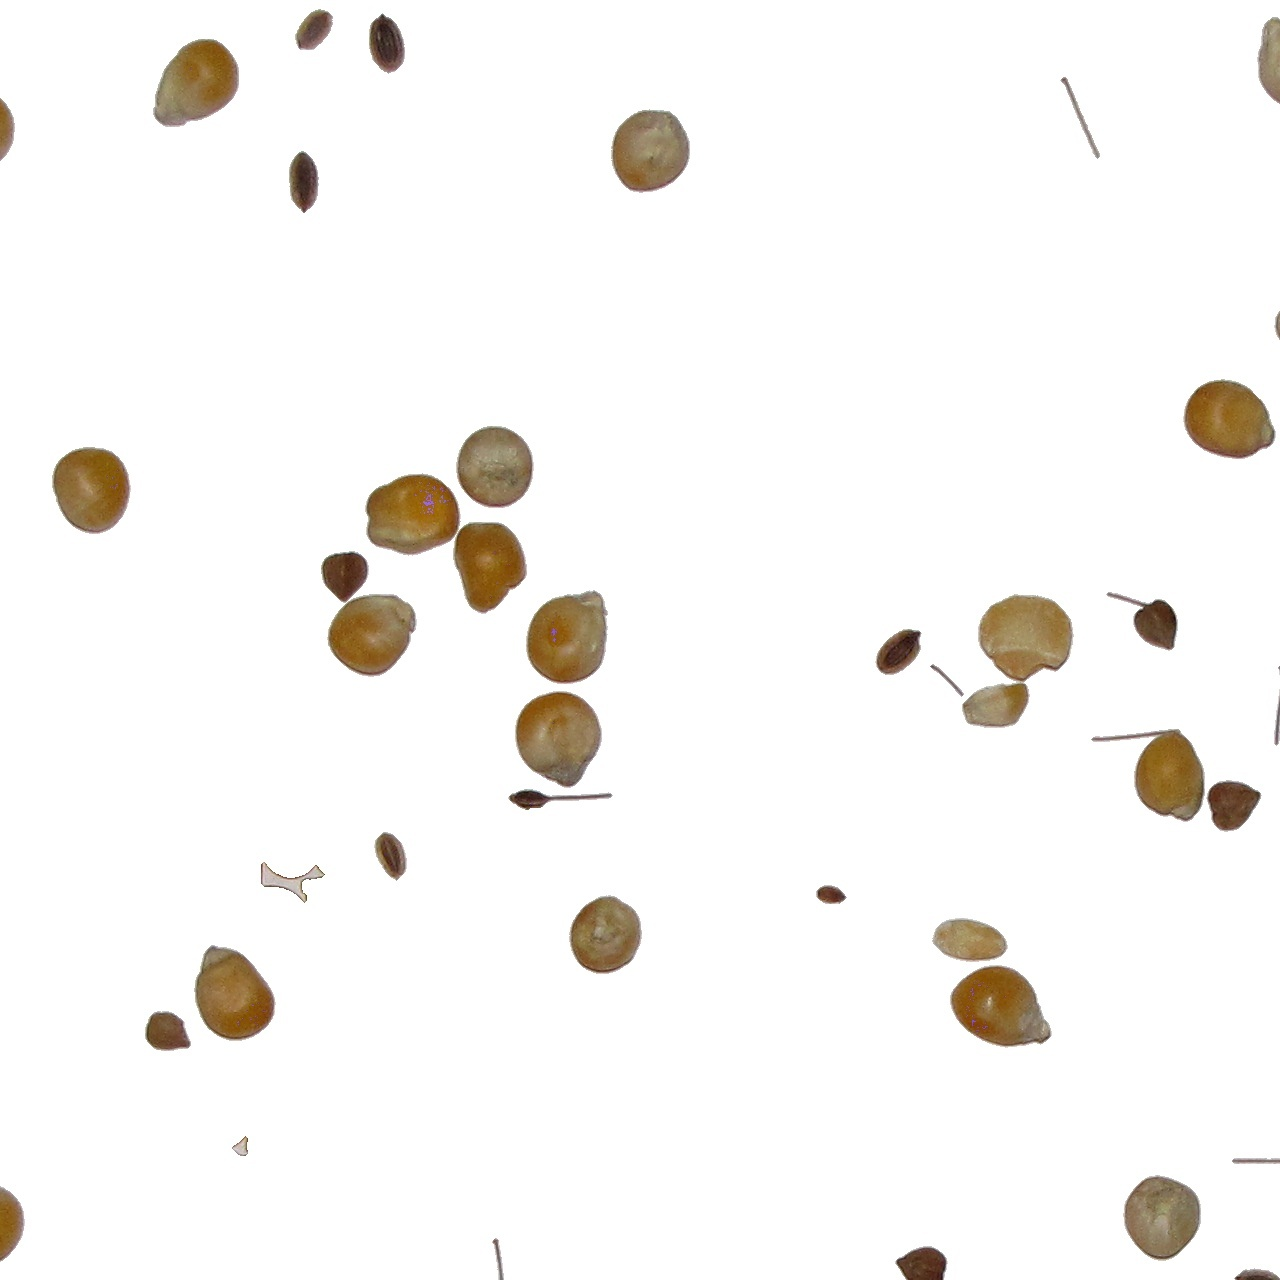buckwheat: (1105, 591, 1179, 652), (961, 681, 1032, 729), (320, 550, 370, 604), (368, 12, 406, 75), (874, 628, 922, 676), (288, 150, 320, 215), (894, 1245, 949, 1280), (294, 5, 334, 48), (491, 1237, 508, 1280), (1273, 663, 1280, 747), (231, 1135, 248, 1157)
dill: (1058, 76, 1101, 159), (254, 862, 320, 904), (373, 831, 408, 881), (815, 884, 847, 905), (1231, 1157, 1280, 1165)
mais: (1090, 728, 1206, 823), (978, 593, 1075, 685), (949, 964, 1053, 1049), (515, 690, 602, 789), (365, 472, 462, 557), (193, 944, 277, 1042), (525, 588, 610, 685), (152, 38, 240, 128), (326, 593, 418, 678), (1182, 377, 1276, 459), (52, 445, 132, 535), (452, 520, 527, 615), (610, 108, 692, 195), (1122, 1175, 1201, 1262), (455, 425, 535, 509), (568, 894, 644, 975), (1257, 16, 1280, 111), (1273, 301, 1280, 375)
other: (931, 917, 1009, 964), (1205, 779, 1262, 833), (508, 788, 614, 811), (144, 1010, 192, 1051), (930, 663, 965, 697), (1235, 1267, 1280, 1280)
